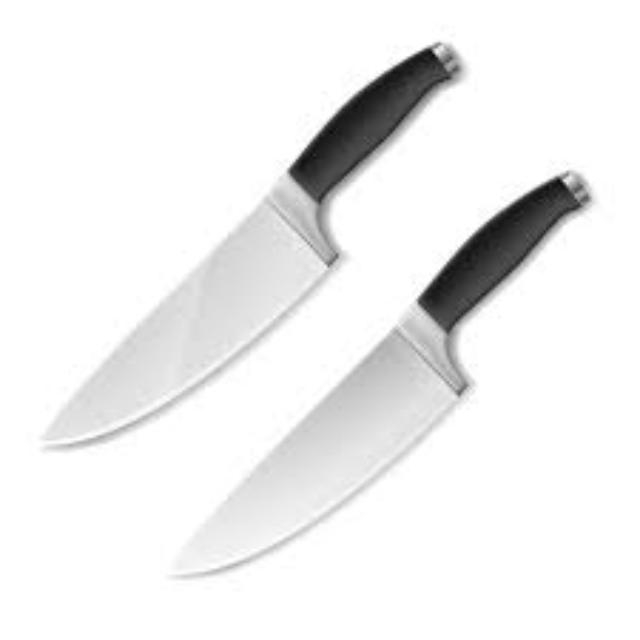Knife: (165, 168, 591, 578), (38, 38, 460, 446)
